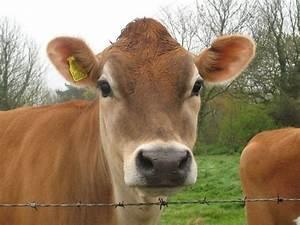cow: (0, 15, 256, 224)
